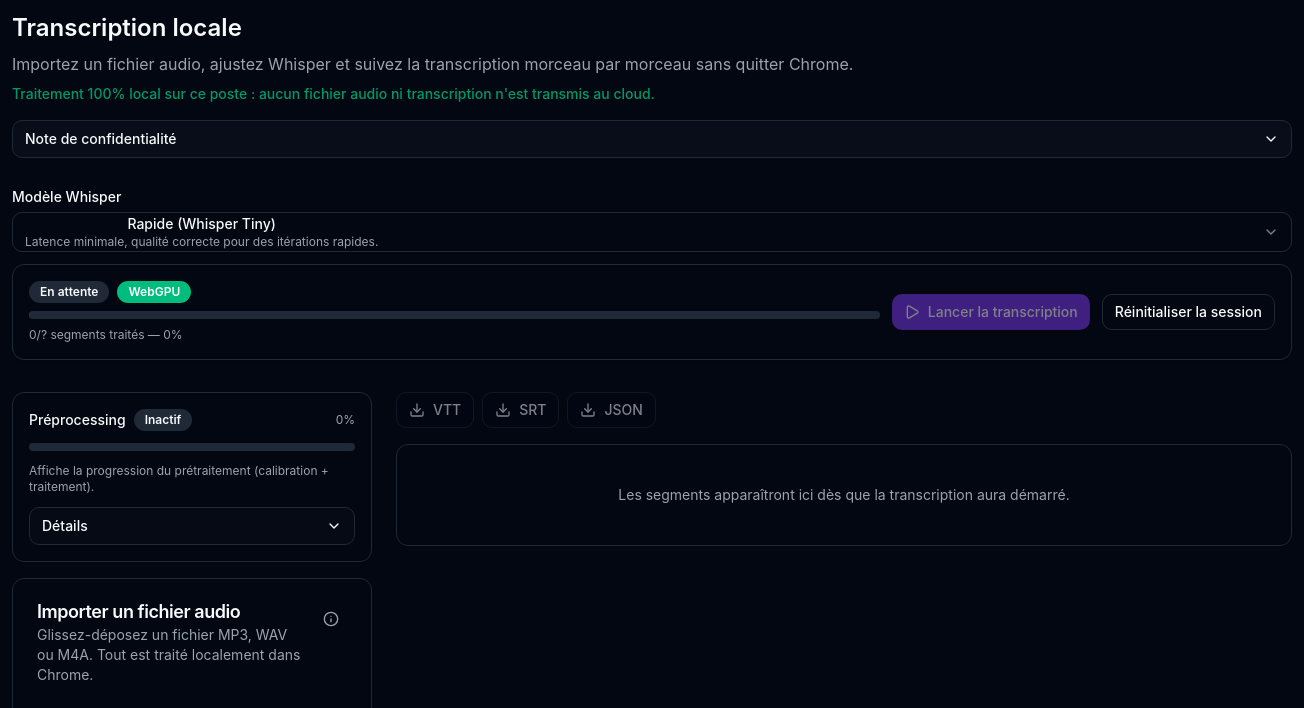
Scenario: LocalUploadPage › expands the privacy note when clicked
Expected: the text "fichiers audio" is not shown
Click the button "Note de confidentialité". click: (101, 138)
box: [12,120,1292,158]
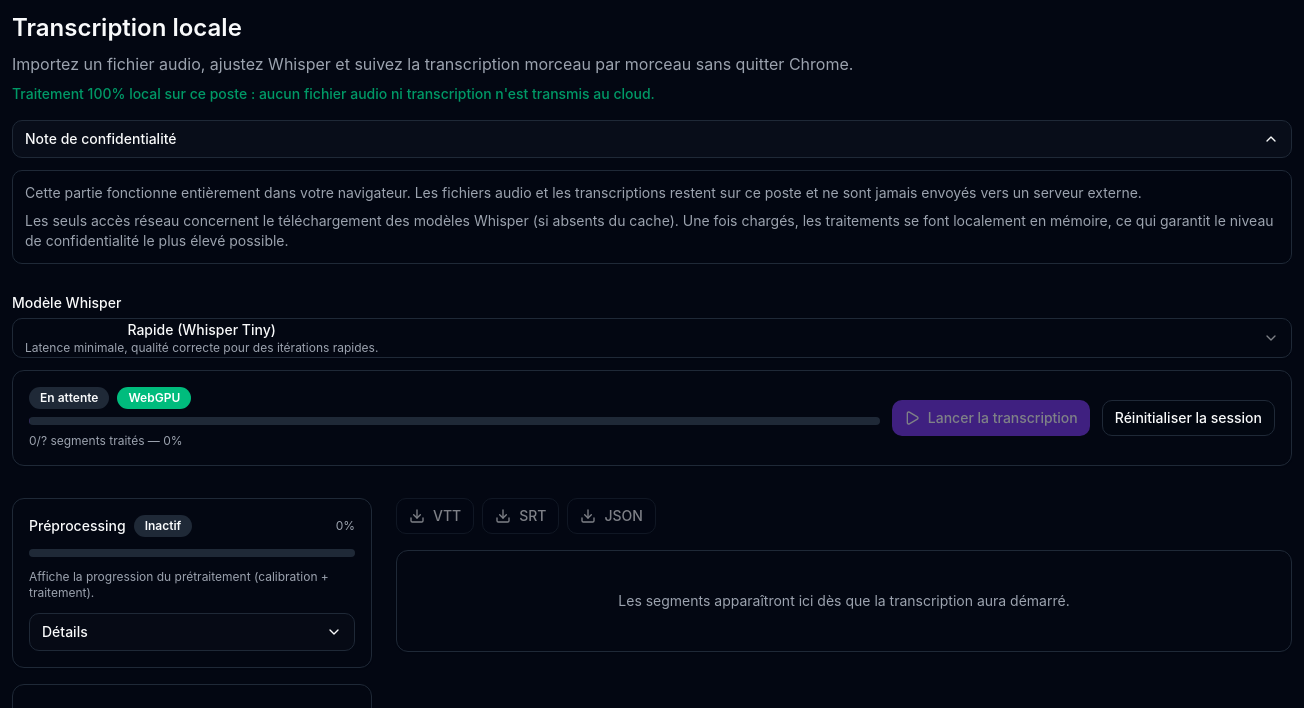
Now the text "fichiers audio" is shown, box [25,184,1142,201]
